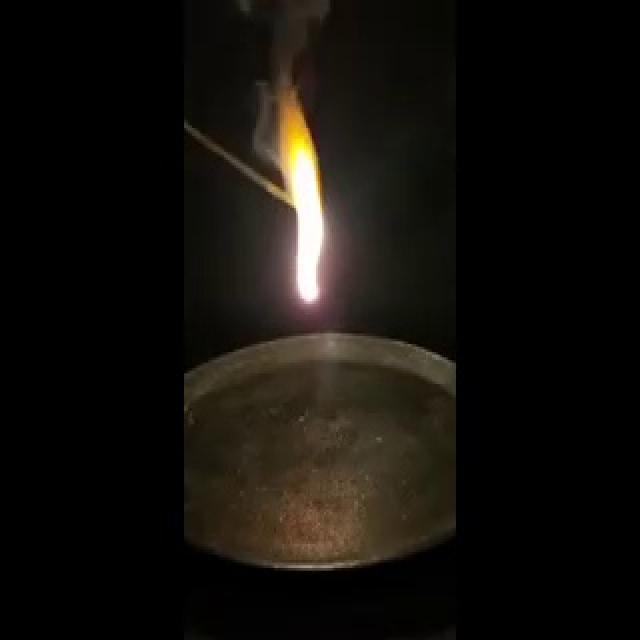fire: (273, 83, 335, 309)
